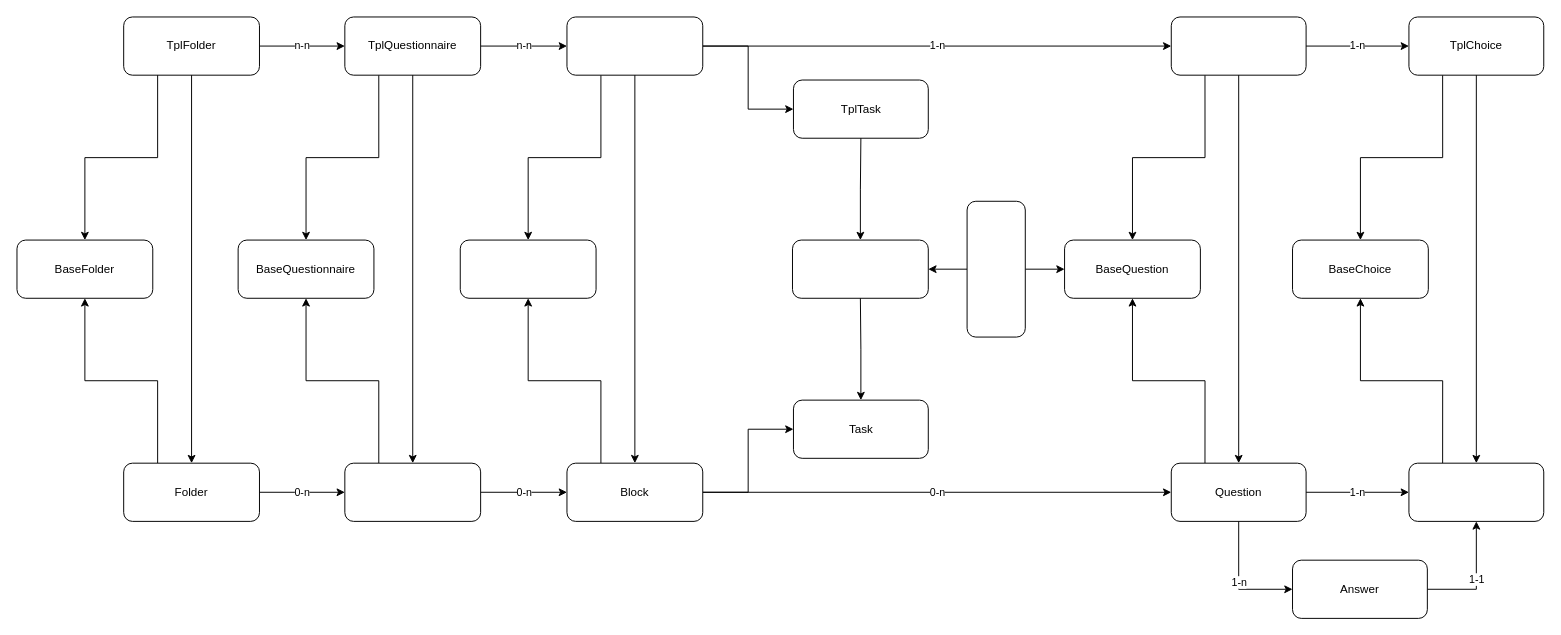
The diagram is 1561 pixels wide and 635 high, and some of its shapes have lost their labels. The shapes that lost their labels are listed below. From the top down, each one's centre as x and y in pixels, then its label:
At (x=634, y=45): "TplBlock".
At (x=1238, y=45): "TplQuestion".
At (x=527, y=268): "BaseBlock".
At (x=860, y=268): "BaseTask".
At (x=995, y=268): "Item".
At (x=412, y=491): "Questionnaire".
At (x=1476, y=491): "Choice".
